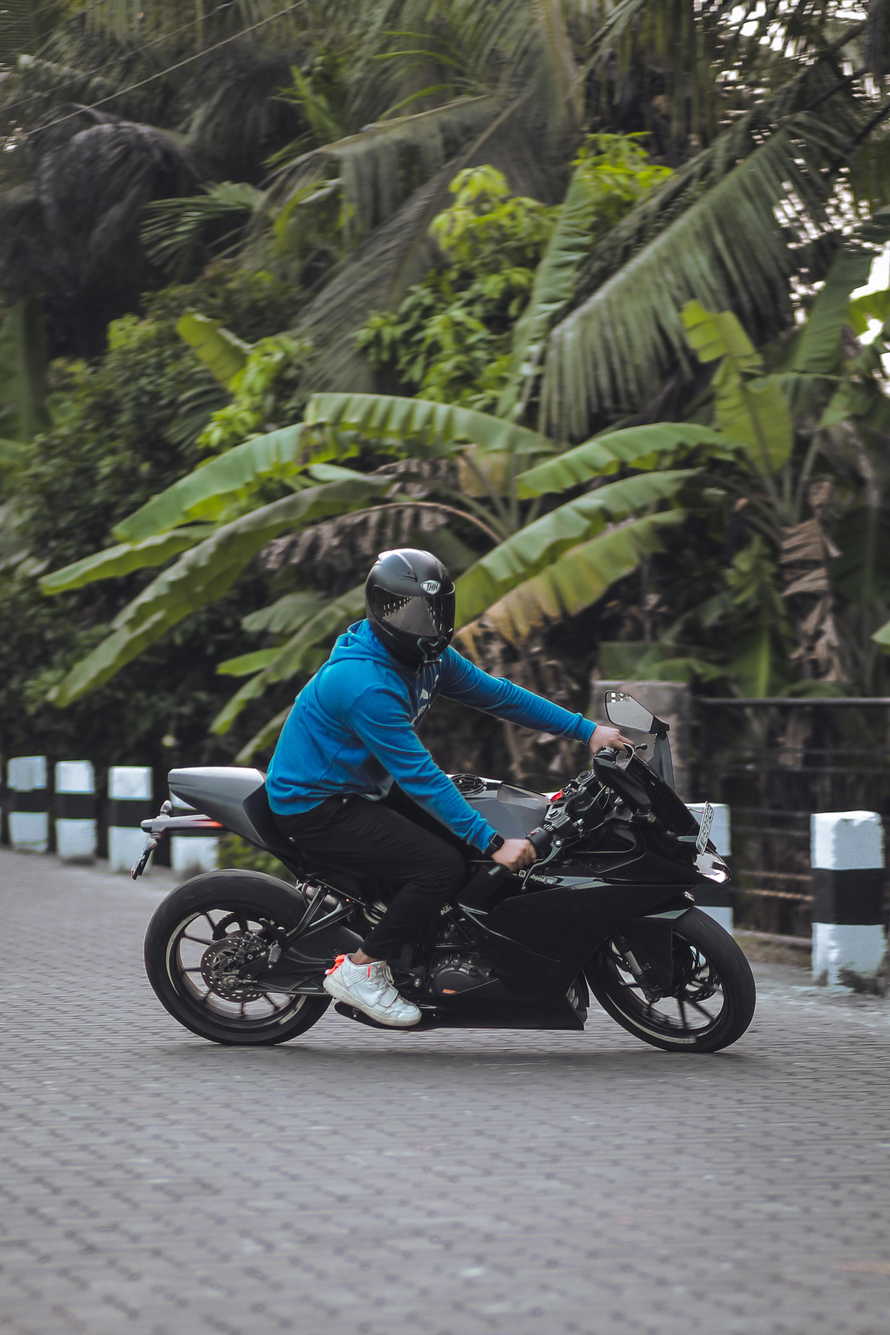helmet: (363, 546, 457, 670)
